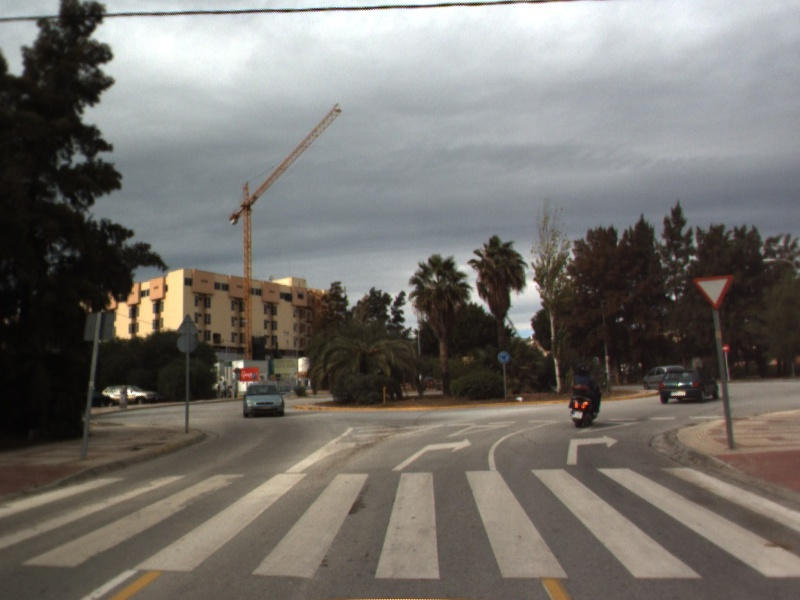RIGHT: (390, 435, 474, 473), (565, 432, 620, 467)
